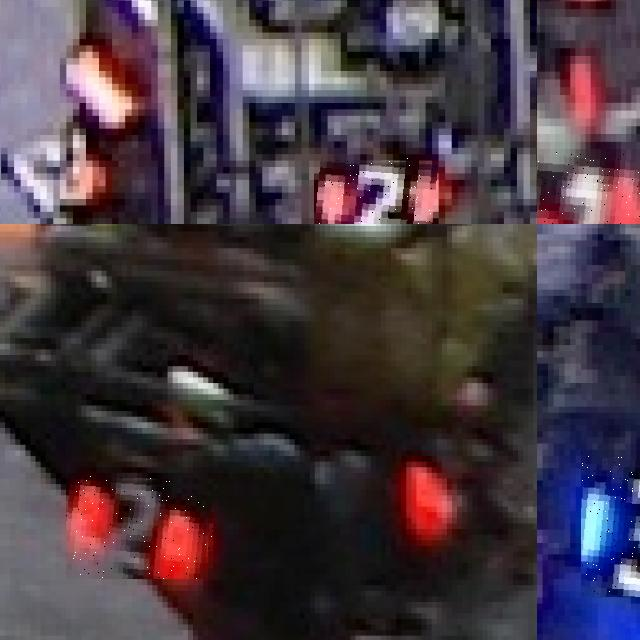B3: (581, 449, 640, 597)
R2: (66, 473, 213, 579), (314, 154, 438, 224)
R3: (537, 149, 640, 224)
